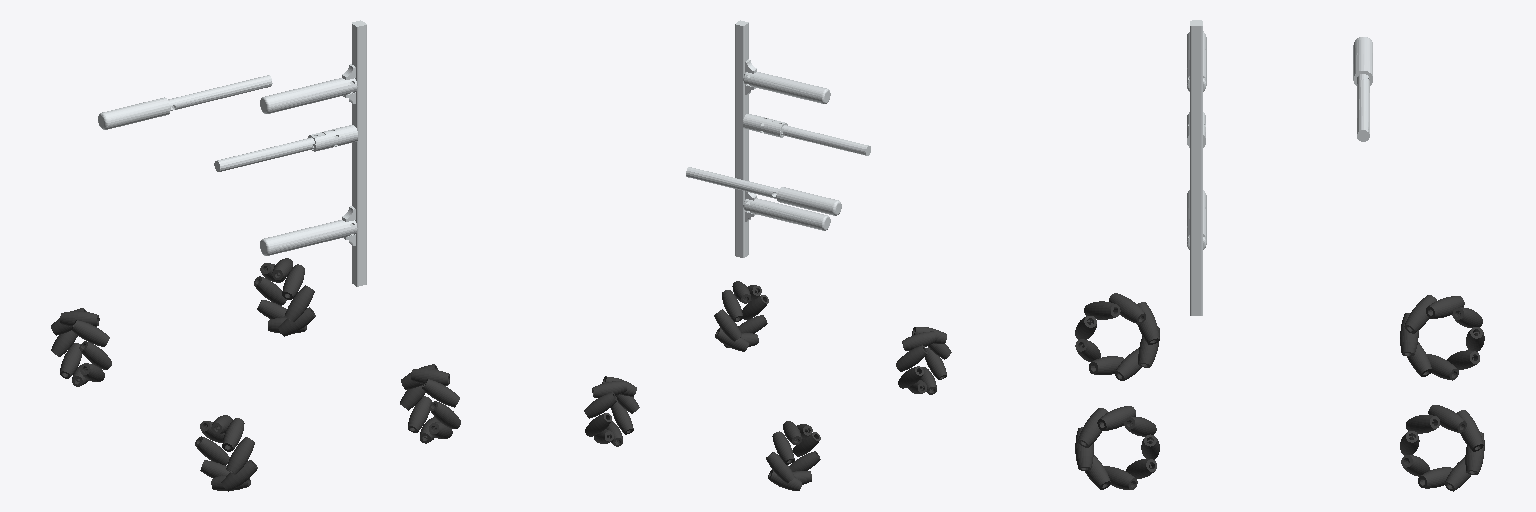
--- What the picture shows (computed from the rendered views, not written in the file) ---
Views: 3 orthographic renders of the robot side by side, from view 1: azimuth 30°, elevation 25°; view 2: azimuth 150°, elevation 25°; view 3: azimuth 270°, elevation 25°.
Model recon_bot_description with 41 links and 40 joints (36 continuous, 2 prismatic, 2 fixed), rooted at odom, posed all joints at 0.
Visible links, largest first — view 1: Pin_Head_R, Pin_Head_F, Roller_LR_4, Roller_LF_3, Roller_RR_8, Roller_RF_6, Roller_LR_8, Roller_RR_4; view 2: Pin_Head_R, Pin_Head_F; view 3: Pin_Head_R, Pin_Head_F, Roller_RF_4, Roller_LR_2, Roller_RR_7, Roller_LF_3, Roller_LF_2, Roller_RR_8, Roller_RF_3, Roller_LR_1, Roller_LR_3.
Link boxes in pixels (bbox=[...]): Pin_Head_R: bbox=[214, 20, 366, 286]; Pin_Head_F: bbox=[98, 75, 272, 129]; Roller_LR_4: bbox=[226, 437, 254, 474]; Roller_LF_3: bbox=[71, 320, 109, 346]; Roller_RR_8: bbox=[422, 379, 459, 407]; Roller_RF_6: bbox=[284, 285, 314, 322]; Roller_LR_8: bbox=[195, 436, 229, 465]; Roller_RR_4: bbox=[408, 396, 431, 432]; Pin_Head_R: bbox=[735, 20, 870, 257]; Pin_Head_F: bbox=[686, 167, 841, 215]; Pin_Head_R: bbox=[1187, 20, 1206, 315]; Pin_Head_F: bbox=[1353, 37, 1372, 141]; Roller_RF_4: bbox=[1428, 405, 1466, 432]; Roller_LR_2: bbox=[1109, 293, 1145, 324]; Roller_RR_7: bbox=[1097, 406, 1135, 430]; Roller_LF_3: bbox=[1404, 295, 1436, 333]; Roller_LF_2: bbox=[1426, 296, 1464, 318]; Roller_RR_8: bbox=[1078, 408, 1107, 447]; Roller_RF_3: bbox=[1457, 410, 1483, 451]; Roller_LR_1: bbox=[1137, 302, 1159, 344]; Roller_LR_3: bbox=[1084, 301, 1120, 319].
Bounding box of the posed robot: 0.4523 × 0.6138 × 0.734 m (x, y, z).
Meshes: 39 distinct files referenced, 34 mesh visuals loaded (34 binary STL); not drawn: 5 (reference not matched to a file when rendering).

The robot description file, URDF, robot "recon_bot_description":
<?xml version="1.0" encoding="utf-8"?>
<!-- This URDF was automatically created by SolidWorks to URDF Exporter! Originally created by Stephen Brawner ([email redacted]) 
     Commit Version: 1.6.0-4-g7f85cfe  Build Version: 1.6.7995.38578
     For more information, please see http://wiki.ros.org/sw_urdf_exporter -->
<robot
  name="recon_bot_description">

  <link name="odom">
    <origin xyz="0.0 0.0 0.0" rpy="0.0 0.0 3.14" />
  </link>

  <link name="base_footprint">
    <origin xyz="0.0 0.0 0.0" rpy="0.0 0.0 3.14" />
  </link>

  <joint name="odom_to_basefootprint" type="fixed">
    <parent link="odom"/>
    <child link="base_footprint"/>
    <origin rpy="0 0 0" xyz="0 0 0"/>
  </joint>

  <link
    name="Mobile_Base">
    <inertial>
      <origin
        xyz="-0.000901764538349642 0.00289486712536702 -0.140394651236372"
        rpy="0 0 0" />
      <mass
        value="12.2070426110808" />
      <inertia
        ixx="0.100263210317857"
        ixy="0.000416138117875011"
        ixz="1.90955749720013E-07"
        iyy="0.0777870248737817"
        iyz="-4.99662188803516E-08"
        izz="0.15510236958373" />
    </inertial>
    <visual>
      <origin
        xyz="0 0 0"
        rpy="0 0 0" />
      <geometry>
        <mesh
          filename="package://recon_bot_description/meshes/Mobile_Base.STL" />
      </geometry>
      <material
        name="">
        <color
          rgba="0.792156862745098 0.819607843137255 0.933333333333333 1" />
      </material>
    </visual>
    <collision>
      <origin
        xyz="0 0 0"
        rpy="0 0 0" />
      <geometry>
        
      </geometry>
    </collision>
  </link>

  <joint name="basefootprint_to_base" type="fixed">
    <parent link="base_footprint"/>
    <child link="Mobile_Base"/>
    <origin rpy="0 0 0" xyz="0 0 0.5"/>
  </joint>

  <link
    name="Wheel_LF">
    <inertial>
      <origin
        xyz="-3.68604325448052E-05 8.74696815861276E-06 -0.000155511793327179"
        rpy="0 0 0" />
      <mass
        value="0.774041102749819" />
      <inertia
        ixx="0.000555068815324583"
        ixy="2.15732280355057E-07"
        ixz="-1.85654347062673E-10"
        iyy="0.000555930826369468"
        iyz="2.27283260482476E-10"
        izz="0.000988906210850007" />
    </inertial>
    <visual>
      <origin
        xyz="0 0 0"
        rpy="0 0 0" />
      <geometry>
        <mesh
          filename="package://recon_bot_description/meshes/Wheel_LF.STL" />
      </geometry>
      <material
        name="">
        <color
          rgba="0.898039215686275 0.917647058823529 0.929411764705882 1" />
      </material>
    </visual>
    <collision>
      <origin
        xyz="0 0 0"
        rpy="0 0 0" />
      <geometry>
        
      </geometry>
    </collision>
  </link>
  <joint
    name="J_Wheel_LF"
    type="continuous">
    <origin
      xyz="-0.196999999999994 0.243373703143014 -0.410500520826094"
      rpy="1.5707963267949 -0.698892577239709 1.57079632679526" />
    <parent
      link="Mobile_Base" />
    <child
      link="Wheel_LF" />
    <axis
      xyz="0 0 1" />
  </joint>
  <link
    name="Roller_LF_1">
    <inertial>
      <origin
        xyz="-3.83185982943957E-10 -5.66471758389753E-10 -6.83960459935129E-08"
        rpy="0 0 0" />
      <mass
        value="0.0352584429300109" />
      <inertia
        ixx="1.04260747160857E-05"
        ixy="-3.74985932672452E-16"
        ixz="3.16159847322509E-11"
        iyy="1.04260747162552E-05"
        iyz="-7.59166287983956E-12"
        izz="3.24617145964053E-06" />
    </inertial>
    <visual>
      <origin
        xyz="0 0 0"
        rpy="0 0 0" />
      <geometry>
        <mesh
          filename="package://recon_bot_description/meshes/Roller_LF_1.STL" />
      </geometry>
      <material
        name="">
        <color
          rgba="0.298039215686275 0.298039215686275 0.298039215686275 1" />
      </material>
    </visual>
    <collision>
      <origin
        xyz="0 0 0"
        rpy="0 0 0" />
      <geometry>
        
      </geometry>
    </collision>
  </link>
  <joint
    name="J_Roller_LF_1"
    type="continuous">
    <origin
      xyz="0.0495000000000021 0 0"
      rpy="0 0.785398163397682 1.57079632679483" />
    <parent
      link="Wheel_LF" />
    <child
      link="Roller_LF_1" />
    <axis
      xyz="0 0 -1" />
  </joint>
  <link
    name="Roller_LF_2">
    <inertial>
      <origin
        xyz="-3.09857084435095E-10 1.10555134491541E-09 -4.17113807937852E-08"
        rpy="0 0 0" />
      <mass
        value="0.0352584429300112" />
      <inertia
        ixx="1.04260761905347E-05"
        ixy="2.10247077096114E-16"
        ixz="-2.4788845562525E-11"
        iyy="1.04260761890094E-05"
        iyz="-2.10620761179513E-11"
        izz="3.24617146052916E-06" />
    </inertial>
    <visual>
      <origin
        xyz="0 0 0"
        rpy="0 0 0" />
      <geometry>
        <mesh
          filename="package://recon_bot_description/meshes/Roller_LF_2.STL" />
      </geometry>
      <material
        name="">
        <color
          rgba="0.298039215686275 0.298039215686275 0.298039215686275 1" />
      </material>
    </visual>
    <collision>
      <origin
        xyz="0 0 0"
        rpy="0 0 0" />
      <geometry>
        
      </geometry>
    </collision>
  </link>
  <joint
    name="J_Roller_LF_2"
    type="continuous">
    <origin
      xyz="0.0350017856687387 0.0350017856687551 0"
      rpy="0 0.785398163397817 2.35619449019253" />
    <parent
      link="Wheel_LF" />
    <child
      link="Roller_LF_2" />
    <axis
      xyz="0 0 -1" />
  </joint>
  <link
    name="Roller_LF_3">
    <inertial>
      <origin
        xyz="7.28457724696874E-09 2.76751455086099E-09 2.27604661784397E-08"
        rpy="0 0 0" />
      <mass
        value="0.0352584429300111" />
      <inertia
        ixx="1.04260768064924E-05"
        ixy="-1.98661171978739E-14"
        ixz="-3.25498755598683E-11"
        iyy="1.04260768503918E-05"
        iyz="-1.43134028288981E-12"
        izz="3.2461715182147E-06" />
    </inertial>
    <visual>
      <origin
        xyz="0 0 0"
        rpy="0 0 0" />
      <geometry>
        <mesh
          filename="package://recon_bot_description/meshes/Roller_LF_3.STL" />
      </geometry>
      <material
        name="">
        <color
          rgba="0.298039215686275 0.298039215686275 0.298039215686275 1" />
      </material>
    </visual>
    
  </link>
  <joint
    name="J_Roller_LF_3"
    type="continuous">
    <origin
      xyz="0 0.0494999999999665 0"
      rpy="0 0.785398163397733 -3.14159265358936" />
    <parent
      link="Wheel_LF" />
    <child
      link="Roller_LF_3" />
    <axis
      xyz="0 0 -1" />
  </joint>
  <link
    name="Roller_LF_4">
    <inertial>
      <origin
        xyz="-8.85009204809606E-10 8.87345419364749E-10 -1.82681258453776E-08"
        rpy="0 0 0" />
      <mass
        value="0.035258442930011" />
      <inertia
        ixx="1.04260768940346E-05"
        ixy="6.843225238284E-16"
        ixz="-1.09712169237017E-11"
        iyy="1.04260768941284E-05"
        iyz="3.06406603017413E-11"
        izz="3.24617146037589E-06" />
    </inertial>
    <visual>
      <origin
        xyz="0 0 0"
        rpy="0 0 0" />
      <geometry>
        <mesh
          filename="package://recon_bot_description/meshes/Roller_LF_4.STL" />
      </geometry>
      <material
        name="">
        <color
          rgba="0.298039215686275 0.298039215686275 0.298039215686275 1" />
      </material>
    </visual>
    
  </link>
  <joint
    name="J_Roller_LF_4"
    type="continuous">
    <origin
      xyz="-0.0350017856687272 0.0350017856687195 0"
      rpy="0 0.785398163397478 -2.35619449019179" />
    <parent
      link="Wheel_LF" />
    <child
      link="Roller_LF_4" />
    <axis
      xyz="0 0 -1" />
  </joint>
  <link
    name="Roller_LF_5">
    <inertial>
      <origin
        xyz="1.60439110885591E-08 5.69080083057116E-09 1.2380305391968E-07"
        rpy="0 0 0" />
      <mass
        value="0.035258442930011" />
      <inertia
        ixx="1.04260694141622E-05"
        ixy="-9.94372503073185E-14"
        ixz="-1.26413841544385E-11"
        iyy="1.04260696259208E-05"
        iyz="2.99325036340899E-11"
        izz="3.24617174875245E-06" />
    </inertial>
    <visual>
      <origin
        xyz="0 0 0"
        rpy="0 0 0" />
      <geometry>
        <mesh
          filename="package://recon_bot_description/meshes/Roller_LF_5.STL" />
      </geometry>
      <material
        name="">
        <color
          rgba="0.298039215686275 0.298039215686275 0.298039215686275 1" />
      </material>
    </visual>
    
  </link>
  <joint
    name="J_Roller_LF_5"
    type="continuous">
    <origin
      xyz="-0.0495000000000251 0 0"
      rpy="0 0.785398163397209 -1.57079632679442" />
    <parent
      link="Wheel_LF" />
    <child
      link="Roller_LF_5" />
    <axis
      xyz="0 0 -1" />
  </joint>
  <link
    name="Roller_LF_6">
    <inertial>
      <origin
        xyz="-3.825635364052E-10 -1.68518193843781E-09 4.39527294560094E-08"
        rpy="0 0 0" />
      <mass
        value="0.0352584429300111" />
      <inertia
        ixx="1.04260760941714E-05"
        ixy="-2.85658102752809E-16"
        ixz="2.80429237954922E-11"
        iyy="1.04260760917002E-05"
        iyz="1.65168143921329E-11"
        izz="3.24617146148317E-06" />
    </inertial>
    <visual>
      <origin
        xyz="0 0 0"
        rpy="0 0 0" />
      <geometry>
        <mesh
          filename="package://recon_bot_description/meshes/Roller_LF_6.STL" />
      </geometry>
      <material
        name="">
        <color
          rgba="0.298039215686275 0.298039215686275 0.298039215686275 1" />
      </material>
    </visual>
    
  </link>
  <joint
    name="J_Roller_LF_6"
    type="continuous">
    <origin
      xyz="-0.0350017856687449 -0.0350017856687672 0"
      rpy="0 0.785398163397077 -0.785398163397211" />
    <parent
      link="Wheel_LF" />
    <child
      link="Roller_LF_6" />
    <axis
      xyz="0 0 -1" />
  </joint>
  <link
    name="Roller_LF_7">
    <inertial>
      <origin
        xyz="4.28941293595386E-09 8.82995787598873E-10 -1.01682179981522E-07"
        rpy="0 0 0" />
      <mass
        value="0.0352584429300109" />
      <inertia
        ixx="1.04260718732603E-05"
        ixy="-4.33398087044761E-15"
        ixz="2.94154428727412E-11"
        iyy="1.04260718866193E-05"
        iyz="-1.4005428896808E-11"
        izz="3.2461714747039E-06" />
    </inertial>
    <visual>
      <origin
        xyz="0 0 0"
        rpy="0 0 0" />
      <geometry>
        <mesh
          filename="package://recon_bot_description/meshes/Roller_LF_7.STL" />
      </geometry>
      <material
        name="">
        <color
          rgba="0.298039215686275 0.298039215686275 0.298039215686275 1" />
      </material>
    </visual>
    
  </link>
  <joint
    name="J_Roller_LF_7"
    type="continuous">
    <origin
      xyz="0 -0.0494999999999995 0"
      rpy="0 0.785398163397161 0" />
    <parent
      link="Wheel_LF" />
    <child
      link="Roller_LF_7" />
    <axis
      xyz="0 0 -1" />
  </joint>
  <link
    name="Roller_LF_8">
    <inertial>
      <origin
        xyz="-4.45606107568608E-10 -1.68479385997955E-09 4.58650017132189E-08"
        rpy="0 0 0" />
      <mass
        value="0.0352584429300115" />
      <inertia
        ixx="1.04260760091362E-05"
        ixy="-3.83896454579771E-16"
        ixz="3.22721314246384E-11"
        iyy="1.04260760061884E-05"
        iyz="-4.12147536543168E-12"
        izz="3.24617146194952E-06" />
    </inertial>
    <visual>
      <origin
        xyz="0 0 0"
        rpy="0 0 0" />
      <geometry>
        <mesh
          filename="package://recon_bot_description/meshes/Roller_LF_8.STL" />
      </geometry>
      <material
        name="">
        <color
          rgba="0.298039215686275 0.298039215686275 0.298039215686275 1" />
      </material>
    </visual>
    
  </link>
  <joint
    name="J_Roller_LF_8"
    type="continuous">
    <origin
      xyz="0.0350017856687419 -0.0350017856687232 0"
      rpy="0 0.785398163397412 0.785398163397306" />
    <parent
      link="Wheel_LF" />
    <child
      link="Roller_LF_8" />
    <axis
      xyz="0 0 -1" />
  </joint>
  <link
    name="Wheel_LR">
    <inertial>
      <origin
        xyz="2.28750886412388E-05 4.38499760812283E-05 -0.000160556590807603"
        rpy="0 0 0" />
      <mass
        value="0.286935584537691" />
      <inertia
        ixx="0.000205567523367468"
        ixy="4.86825936022437E-10"
        ixz="5.22777710432475E-10"
        iyy="0.000205922237695722"
        iyz="8.40224944645304E-11"
        izz="0.000366267561115225" />
    </inertial>
    <visual>
      <origin
        xyz="0 0 0"
        rpy="0 0 0" />
      <geometry>
        <mesh
          filename="package://recon_bot_description/meshes/Wheel_LR.STL" />
      </geometry>
      <material
        name="">
        <color
          rgba="0.792156862745098 0.819607843137255 0.933333333333333 1" />
      </material>
    </visual>
    <collision>
      <origin
        xyz="0 0 0"
        rpy="0 0 0" />
      <geometry>
        <mesh
          filename="package://recon_bot_description/meshes/Wheel_LR.STL" />
      </geometry>
    </collision>
  </link>
  <joint
    name="J_Wheel_LR"
    type="continuous">
    <origin
      xyz="-0.197 -0.243373703143012 -0.410500520826101"
      rpy="1.5707963267949 -0.479686767241463 1.57079632679489" />
    <parent
      link="Mobile_Base" />
    <child
      link="Wheel_LR" />
    <axis
      xyz="0 0 1" />
  </joint>
  <link
    name="Roller_LR_1">
    <inertial>
      <origin
        xyz="1.67015073992971E-08 1.25504300840795E-08 1.06866803406547E-07"
        rpy="0 0 0" />
      <mass
        value="0.0352584429300112" />
      <inertia
        ixx="1.04260715177521E-05"
        ixy="-2.16967544708089E-13"
        ixz="-9.22230104291594E-12"
        iyy="1.04260716218938E-05"
        iyz="3.09410049840542E-11"
        izz="3.24617190478417E-06" />
    </inertial>
    <visual>
      <origin
        xyz="0 0 0"
        rpy="0 0 0" />
      <geometry>
        <mesh
          filename="package://recon_bot_description/meshes/Roller_LR_1.STL" />
      </geometry>
      <material
        name="">
        <color
          rgba="0.298039215686275 0.298039215686275 0.298039215686275 1" />
      </material>
    </visual>
    
  </link>
  <joint
    name="J_Roller_LR_1"
    type="continuous">
    <origin
      xyz="0.0494999999999991 0 0"
      rpy="0 0.785398163397451 -1.57079632679496" />
    <parent
      link="Wheel_LR" />
    <child
      link="Roller_LR_1" />
    <axis
      xyz="0 0 -1" />
  </joint>
  <link
    name="Roller_LR_2">
    <inertial>
      <origin
        xyz="7.42938899289669E-09 -8.73704070203374E-09 8.61521962658429E-08"
        rpy="0 0 0" />
      <mass
        value="0.0352584429300108" />
      <inertia
        ixx="1.04260734013828E-05"
        ixy="6.31409768982622E-14"
        ixz="9.33284556977417E-12"
        iyy="1.04260733892382E-05"
        iyz="3.12763115710681E-11"
        izz="3.2461715855996E-06" />
    </inertial>
    <visual>
      <origin
        xyz="0 0 0"
        rpy="0 0 0" />
      <geometry>
        <mesh
          filename="package://recon_bot_description/meshes/Roller_LR_2.STL" />
      </geometry>
      <material
        name="">
        <color
          rgba="0.298039215686275 0.298039215686275 0.298039215686275 1" />
      </material>
    </visual>
    
  </link>
  <joint
    name="J_Roller_LR_2"
    type="continuous">
    <origin
      xyz="0.0350017856687349 0.0350017856687338 0"
      rpy="0 0.785398163397457 -0.785398163397507" />
    <parent
      link="Wheel_LR" />
    <child
      link="Roller_LR_2" />
    <axis
      xyz="0 0 -1" />
  </joint>
  <link
    name="Roller_LR_3">
    <inertial>
      <origin
        xyz="-2.48421372361918E-09 -3.8649139000313E-08 3.87014362224214E-09"
        rpy="0 0 0" />
      <mass
        value="0.0352584429300109" />
      <inertia
        ixx="1.02720896688601E-05"
        ixy="5.25739053234605E-07"
        ixz="8.97501577058071E-07"
        iyy="8.63112731680581E-06"
        iyz="-3.06419984523447E-06"
        izz="5.19511092199813E-06" />
    </inertial>
    <visual>
      <origin
        xyz="0 0 0"
        rpy="0 0 0" />
      <geometry>
        <mesh
          filename="package://recon_bot_description/meshes/Roller_LR_3.STL" />
      </geometry>
      <material
        name="">
        <color
          rgba="0.298039215686275 0.298039215686275 0.298039215686275 1" />
      </material>
    </visual>
    
  </link>
  <joint
    name="J_Roller_LR_3"
    type="continuous">
    <origin
      xyz="0 0.0494999999999999 0"
      rpy="0 0.785398163397457 -0.785398163397507" />
    <parent
      link="Wheel_LR" />
    <child
      link="Roller_LR_3" />
    <axis
      xyz="0.146446609406722 -0.499999999999993 -0.853553390593279" />
  </joint>
  <link
    name="Roller_LR_4">
    <inertial>
      <origin
        xyz="7.63942531456507E-09 -1.99390438604397E-08 1.1846500916346E-07"
        rpy="0 0 0" />
      <mass
        value="0.0352584429300108" />
      <inertia
        ixx="1.0426070450002E-05"
        ixy="1.65232144271412E-13"
        ixz="3.13331495062905E-11"
        iyy="1.04260701130261E-05"
        iyz="-7.04608640492049E-12"
        izz="3.24617193052735E-06" />
    </inertial>
    <visual>
      <origin
        xyz="0 0 0"
        rpy="0 0 0" />
      <geometry>
        <mesh
          filename="package://recon_bot_description/meshes/Roller_LR_4.STL" />
      </geometry>
      <material
        name="">
        <color
          rgba="0.298039215686275 0.298039215686275 0.298039215686275 1" />
      </material>
    </visual>
    
  </link>
  <joint
    name="J_Roller_LR_4"
    type="continuous">
    <origin
      xyz="-0.0350017856687312 0.035001785668738 0"
      rpy="0 0.78539816339745 0.785398163397392" />
    <parent
      link="Wheel_LR" />
    <child
      link="Roller_LR_4" />
    <axis
      xyz="0 0 -1" />
  </joint>
  <link
    name="Roller_LR_5">
    <inertial>
      <origin
        xyz="-1.13800639467421E-08 -2.23572448332376E-08 -1.39705523066747E-07"
        rpy="0 0 0" />
      <mass
        value="0.035258442930011" />
      <inertia
        ixx="1.04260677298263E-05"
        ixy="-2.58295319819987E-13"
        ixz="1.92470991858287E-11"
        iyy="1.0426067392854E-05"
        iyz="-2.66026490431678E-11"
        izz="3.24617207497984E-06" />
    </inertial>
    <visual>
      <origin
        xyz="0 0 0"
        rpy="0 0 0" />
      <geometry>
        <mesh
          filename="package://recon_bot_description/meshes/Roller_LR_5.STL" />
      </geometry>
      <material
        name="">
        <color
          rgba="0.298039215686275 0.298039215686275 0.298039215686275 1" />
      </material>
    </visual>
    
  </link>
  <joint
    name="J_Roller_LR_5"
    type="continuous">
    <origin
      xyz="-0.0494999999999998 0 0"
      rpy="0 0.785398163397442 1.57079632679484" />
    <parent
      link="Wheel_LR" />
    <child
      link="Roller_LR_5" />
    <axis
      xyz="0 0 -1" />
  </joint>
  <link
    name="Roller_LR_6">
    <inertial>
      <origin
        xyz="2.33893460155343E-10 1.54178639300007E-09 -2.60845123278841E-08"
        rpy="0 0 0" />
      <mass
        value="0.035258442930011" />
      <inertia
        ixx="1.04260767232418E-05"
        ixy="-3.71422041546879E-16"
        ixz="3.32532285718695E-12"
        iyy="1.04260767205083E-05"
        iyz="-3.23584129250263E-11"
        izz="3.24617146183828E-06" />
    </inertial>
    <visual>
      <origin
        xyz="0 0 0"
        rpy="0 0 0" />
      <geometry>
        <mesh
          filename="package://recon_bot_description/meshes/Roller_LR_6.STL" />
      </geometry>
      <material
        name="">
        <color
          rgba="0.298039215686275 0.298039215686275 0.298039215686275 1" />
      </material>
    </visual>
    
  </link>
  <joint
    name="J_Roller_LR_6"
    type="continuous">
    <origin
      xyz="-0.0350017856687373 -0.035001785668729 0"
      rpy="0 0.785398163397437 2.35619449019228" />
    <parent
      link="Wheel_LR" />
    <child
      link="Roller_LR_6" />
    <axis
      xyz="0 0 -1" />
  </joint>
  <link
    name="Roller_LR_7">
    <inertial>
      <origin
        xyz="1.99958341828843E-08 1.8472178411888E-08 -5.58086615809472E-09"
        rpy="0 0 0" />
      <mass
        value="0.0352584429300108" />
      <inertia
        ixx="1.04260773904698E-05"
        ixy="-3.71094202950359E-13"
        ixz="-2.21142032202126E-11"
        iyy="1.04260774492563E-05"
        iyz="-2.38143341729084E-11"
        izz="3.24617220352037E-06" />
    </inertial>
    <visual>
      <origin
        xyz="0 0 0"
        rpy="0 0 0" />
      <geometry>
        <mesh
          filename="package://recon_bot_description/meshes/Roller_LR_7.STL" />
      </geometry>
      <material
        name="">
        <color
          rgba="0.298039215686275 0.298039215686275 0.298039215686275 1" />
      </material>
    </visual>
    
  </link>
  <joint
    name="J_Roller_LR_7"
    type="continuous">
    <origin
      xyz="0 -0.0494999999999981 0"
      rpy="0 0.785398163397437 3.14159265358973" />
    <parent
      link="Wheel_LR" />
    <child
      link="Roller_LR_7" />
    <axis
      xyz="0 0 -1" />
  </joint>
  <link
    name="Roller_LR_8">
    <inertial>
      <origin
        xyz="-4.27786778223194E-10 1.50381363750451E-08 -1.39886802030809E-07"
        rpy="0 0 0" />
      <mass
        value="0.0352584429300108" />
      <inertia
        ixx="1.04260675049186E-05"
        ixy="-2.07385810388201E-15"
        ixz="-2.69590085768581E-11"
        iyy="1.04260672661416E-05"
        iyz="-1.75459807670728E-11"
        izz="3.24617169716258E-06" />
    </inertial>
    <visual>
      <origin
        xyz="0 0 0"
        rpy="0 0 0" />
      <geometry>
        <mesh
          filename="package://recon_bot_description/meshes/Roller_LR_8.STL" />
      </geometry>
      <material
        name="">
        <color
          rgba="0.298039215686275 0.298039215686275 0.298039215686275 1" />
      </material>
    </visual>
    
  </link>
  <joint
    name="J_Roller_LR_8"
    type="continuous">
    <origin
      xyz="0.0350017856687324 -0.035001785668733 0"
      rpy="0 0.785398163397443 -2.35619449019241" />
    <parent
      link="Wheel_LR" />
    <child
      link="Roller_LR_8" />
    <axis
      xyz="0 0 -1" />
  </joint>
  <link
    name="Wheel_RF">
    <inertial>
      <origin
        xyz="2.28374030626366E-05 4.3913212168234E-05 -0.000160482316143525"
        rpy="0 0 0" />
      <mass
        value="0.286934748749192" />
      <inertia
        ixx="0.00020556617413596"
        ixy="1.10285044985226E-14"
        ixz="5.73034041739302E-10"
        iyy="0.000205921402223248"
        iyz="1.10288594143402E-14"
        izz="0.000366265336032199" />
    </inertial>
    <visual>
      <origin
        xyz="0 0 0"
        rpy="0 0 0" />
      <geometry>
        <mesh
          filename="package://recon_bot_description/meshes/Wheel_RF.STL" />
      </geometry>
      <material
        name="">
        <color
          rgba="0.792156862745098 0.819607843137255 0.933333333333333 1" />
      </material>
    </visual>
    <collision>
      <origin
        xyz="0 0 0"
        rpy="0 0 0" />
      <geometry>
        <mesh
          filename="package://recon_bot_description/meshes/Wheel_RF.STL" />
      </geometry>
    </collision>
  </link>
  <joint
    name="J_Wheel_RF"
    type="continuous">
    <origin
      xyz="0.197 0.243373703143008 -0.410500520826103"
      rpy="-1.57079632679488 0.943014448657122 1.57079632679492" />
    <parent
      link="Mobile_Base" />
    <child
      link="Wheel_RF" />
    <axis
      xyz="0 0 1" />
  </joint>
  <link
    name="Roller_RF_1">
    <inertial>
      <origin
        xyz="-2.28876292918123E-08 1.67575591736302E-08 -3.70525532478183E-08"
        rpy="0 0 0" />
      <mass
        value="0.0352584429300108" />
      <inertia
        ixx="1.04260766356289E-05"
        ixy="3.79660531325495E-13"
        ixz="-2.75547408292055E-11"
        iyy="1.04260768755305E-05"
        iyz="1.77785602475058E-11"
        izz="3.24617225532452E-06" />
    </inertial>
    <visual>
      <origin
        xyz="0 0 0"
        rpy="0 0 0" />
      <geometry>
        <mesh
          filename="package://recon_bot_description/meshes/Roller_RF_1.STL" />
      </geometry>
      <material
        name="">
        <color
          rgba="0.298039215686275 0.298039215686275 0.298039215686275 1" />
      </material>
    </visual>
    
  </link>
  <joint
    name="J_Roller_RF_1"
    type="continuous">
    <origin
      xyz="0.0494999999999999 0 0"
      rpy="0 -0.785398163397448 1.57079632679489" />
    <parent
      link="Wheel_RF" />
    <child
      link="Roller_RF_1" />
    <axis
      xyz="0 0 -1" />
  </joint>
  <link
    name="Roller_RF_2">
    <inertial>
      <origin
        xyz="-7.58374141263118E-10 -2.51046117227816E-09 5.45374427840528E-08"
        rpy="0 0 0" />
      <mass
        value="0.0352584429300108" />
      <inertia
        ixx="1.04260755789725E-05"
        ixy="-1.83702642128029E-15"
        ixz="1.25338284150256E-11"
        iyy="1.04260755718119E-05"
        iyz="-2.9985430552703E-11"
        izz="3.24617146700459E-06" />
    </inertial>
    <visual>
      <origin
        xyz="0 0 0"
        rpy="0 0 0" />
      <geometry>
        <mesh
          filename="package://recon_bot_description/meshes/Roller_RF_2.STL" />
      </geometry>
      <material
        name="">
        <color
          rgba="0.298039215686275 0.298039215686275 0.298039215686275 1" />
      </material>
    </visual>
    
  </link>
  <joint
    name="J_Roller_RF_2"
    type="continuous">
    <origin
      xyz="0.0350017856687338 -0.0350017856687341 0"
      rpy="0 -0.785398163397438 0.785398163397447" />
    <parent
      link="Wheel_RF" />
    <child
      link="Roller_RF_2" />
    <axis
      xyz="0 0 -1" />
  </joint>
  <link
    name="Roller_RF_3">
    <inertial>
      <origin
        xyz="1.62190583186117E-08 -2.63133487221623E-09 1.51501947903698E-07"
        rpy="0 0 0" />
      <mass
        value="0.0352584429300107" />
      <inertia
        ixx="1.04260655466723E-05"
        ixy="3.0405123897277E-14"
        ixz="-4.03828219583914E-12"
        iyy="1.04260658049207E-05"
        iyz="3.23463899735662E-11"
        izz="3.24617172323519E-06" />
    </inertial>
    <visual>
      <origin
        xyz="0 0 0"
        rpy="0 0 0" />
      <geometry>
        <mesh
          filename="package://recon_bot_description/meshes/Roller_RF_3.STL" />
      </geometry>
      <material
        name="">
        <color
          rgba="0.298039215686275 0.298039215686275 0.298039215686275 1" />
      </material>
    </visual>
    
  </link>
  <joint
    name="J_Roller_RF_3"
    type="continuous">
    <origin
      xyz="0 -0.0495 0"
      rpy="-0.609288783050202 0.53106684913527 2.19857820493268" />
    <parent
      link="Wheel_RF" />
    <child
      link="Roller_RF_3" />
    <axis
      xyz="0 0 -1" />
  </joint>
  <link
    name="Roller_RF_4">
    <inertial>
      <origin
        xyz="-1.10020631494123E-09 -2.32654606691085E-09 5.17692528845259E-08"
        rpy="0 0 0" />
      <mass
        value="0.0352584429300106" />
      <inertia
        ixx="1.04260757252243E-05"
        ixy="-2.62052734468842E-15"
        ixz="1.15087387759186E-11"
        iyy="1.04260757196874E-05"
        iyz="-3.03999851193014E-11"
        izz="3.2461714665715E-06" />
    </inertial>
    <visual>
      <origin
        xyz="0 0 0"
        rpy="0 0 0" />
      <geometry>
        <mesh
          filename="package://recon_bot_description/meshes/Roller_RF_4.STL" />
      </geometry>
      <material
        name="">
        <color
          rgba="0.298039215686275 0.298039215686275 0.298039215686275 1" />
      </material>
    </visual>
    
  </link>
  <joint
    name="J_Roller_RF_4"
    type="continuous">
    <origin
      xyz="-0.0350017856687344 -0.0350017856687337 0"
      rpy="0 -0.785398163397439 -0.785398163397433" />
    <parent
      link="Wheel_RF" />
    <child
      link="Roller_RF_4" />
    <axis
      xyz="0 0 -1" />
  </joint>
  <link
    name="Roller_RF_5">
    <inertial>
      <origin
        xyz="2.43778411346263E-08 -1.78419561625009E-08 5.60706398533561E-08"
        rpy="0 0 0" />
      <mass
        value="0.0352584429300109" />
      <inertia
        ixx="1.04260758348702E-05"
        ixy="4.44263469303027E-13"
        ixz="2.48069949750729E-11"
        iyy="1.04260761157679E-05"
        iyz="-2.0365696684887E-11"
        izz="3.24617239087806E-06" />
    </inertial>
    <visual>
      <origin
        xyz="0 0 0"
        rpy="0 0 0" />
      <geometry>
        <mesh
          filename="package://recon_bot_description/meshes/Roller_RF_5.STL" />
      </geometry>
      <material
        name="">
        <color
          rgba="0.298039215686275 0.298039215686275 0.298039215686275 1" />
      </material>
    </visual>
    
  </link>
  <joint
    name="J_Roller_RF_5"
    type="continuous">
    <origin
      xyz="-0.0495 0 0"
      rpy="0 -0.785398163397448 -1.57079632679488" />
    <parent
      link="Wheel_RF" />
    <child
      link="Roller_RF_5" />
    <axis
      xyz="0 0 -1" />
  </joint>
  <link
    name="Roller_RF_6">
    <inertial>
      <origin
        xyz="-6.38928882024103E-10 -4.33517610698431E-09 7.96774445033233E-08"
        rpy="0 0 0" />
      <mass
        value="0.035258442930011" />
      <inertia
        ixx="1.0426073900259E-05"
        ixy="-1.37727112531252E-15"
        ixz="2.87273301374692E-11"
        iyy="1.04260738797584E-05"
        iyz="-1.51581958389486E-11"
        izz="3.24617147943109E-06" />
    </inertial>
    <visual>
      <origin
        xyz="0 0 0"
        rpy="0 0 0" />
      <geometry>
        <mesh
          filename="package://recon_bot_description/meshes/Roller_RF_6.STL" />
      </geometry>
      <material
        name="">
        <color
          rgba="0.298039215686275 0.298039215686275 0.298039215686275 1" />
      </material>
    </visual>
    
  </link>
  <joint
    name="J_Roller_RF_6"
    type="continuous">
    <origin
      xyz="-0.0350017856687347 0.035001785668734 0"
      rpy="0 -0.785398163397459 -2.35619449019234" />
    <parent
      link="Wheel_RF" />
    <child
      link="Roller_RF_6" />
    <axis
      xyz="0 0 -1" />
  </joint>
  <link
    name="Roller_RF_7">
    <inertial>
      <origin
        xyz="2.03665445341894E-08 -7.13063064150532E-09 -8.72457231460011E-08"
        rpy="0 0 0" />
      <mass
        value="0.035258442930011" />
      <inertia
        ixx="1.04260733096708E-05"
        ixy="1.54326280402773E-13"
        ixz="2.0254296471793E-12"
        iyy="1.04260736676434E-05"
        iyz="3.23095488290615E-11"
        izz="3.24617193132991E-06" />
    </inertial>
    <visual>
      <origin
        xyz="0 0 0"
        rpy="0 0 0" />
      <geometry>
        <mesh
          filename="package://recon_bot_description/meshes/Roller_RF_7.STL" />
      </geometry>
      <material
        name="">
        <color
          rgba="0.298039215686275 0.298039215686275 0.298039215686275 1" />
      </material>
    </visual>
    
  </link>
  <joint
    name="J_Roller_RF_7"
    type="continuous">
    <origin
      xyz="0 0.0495 0"
      rpy="0 -0.785398163397463 3.14159265358979" />
    <parent
      link="Wheel_RF" />
    <child
      link="Roller_RF_7" />
    <axis
      xyz="0 0 -1" />
  </joint>
  <link
    name="Roller_RF_8">
    <inertial>
      <origin
        xyz="2.86524748371875E-10 3.53920168172372E-09 -5.47491038616066E-08"
        rpy="0 0 0" />
      <mass
        value="0.0352584429300109" />
      <inertia
        ixx="1.04260755664592E-05"
        ixy="-1.32125493068646E-15"
        ixz="-1.2652516240161E-11"
        iyy="1.04260755558221E-05"
        iyz="3.00123139469367E-11"
        izz="3.24617146993115E-06" />
    </inertial>
    <visual>
      <origin
        xyz="0 0 0"
        rpy="0 0 0" />
      <geometry>
        <mesh
          filename="package://recon_bot_description/meshes/Roller_RF_8.STL" />
      </geometry>
      <material
        name="">
        <color
          rgba="0.298039215686275 0.298039215686275 0.298039215686275 1" />
      </material>
    </visual>
    
  </link>
  <joint
    name="J_Roller_RF_8"
    type="continuous">
    <origin
      xyz="0.0350017856687329 0.0350017856687334 0"
      rpy="0 -0.785398163397459 2.35619449019235" />
    <parent
      link="Wheel_RF" />
    <child
      link="Roller_RF_8" />
    <axis
      xyz="0 0 -1" />
  </joint>
  <link
    name="Wheel_RR">
    <inertial>
      <origin
        xyz="-3.68971720447753E-05 8.73176160257061E-06 -0.000155533212772396"
        rpy="0 0 0" />
      <mass
        value="0.774041107399352" />
      <inertia
        ixx="0.000555071231306981"
        ixy="2.13316469015245E-07"
        ixz="2.7956366730985E-11"
        iyy="0.000555928410599816"
        iyz="-2.88355488444608E-10"
        izz="0.000988906210952547" />
    </inertial>
    <visual>
      <origin
        xyz="0 0 0"
        rpy="0 0 0" />
      <geometry>
        <mesh
          filename="package://recon_bot_description/meshes/Wheel_RR.STL" />
      </geometry>
      <material
        name="">
        <color
          rgba="0.898039215686275 0.917647058823529 0.929411764705882 1" />
      </material>
    </visual>
    <collision>
      <origin
        xyz="0 0 0"
        rpy="0 0 0" />
      <geometry>
        <mesh
          filename="package://recon_bot_description/meshes/Wheel_RR.STL" />
      </geometry>
    </collision>
  </link>
  <joint
    name="J_Wheel_RR"
    type="continuous">
    <origin
      xyz="0.197 -0.243373703143013 -0.410500520826098"
      rpy="1.5707963267949 0.0225283753887193 -1.57079632679472" />
    <parent
      link="Mobile_Base" />
    <child
      link="Wheel_RR" />
    <axis
      xyz="0 0 1" />
  </joint>
  <link
    name="Roller_RR_1">
    <inertial>
      <origin
        xyz="1.12114789674322E-10 -6.97872593047322E-11 -1.19170277257385E-08"
        rpy="0 0 0" />
      <mass
        value="0.035258442930011" />
      <inertia
        ixx="1.04260769898083E-05"
        ixy="6.06656908224351E-18"
        ixz="3.08085320277639E-11"
        iyy="1.04260769898007E-05"
        iyz="1.0478225912599E-11"
        izz="3.24617145901505E-06" />
    </inertial>
    <visual>
      <origin
        xyz="0 0 0"
        rpy="0 0 0" />
      <geometry>
        <mesh
          filename="package://recon_bot_description/meshes/Roller_RR_1.STL" />
      </geometry>
      <material
        name="">
        <color
          rgba="0.298039215686275 0.298039215686275 0.298039215686275 1" />
      </material>
    </visual>
    
  </link>
  <joint
    name="J_Roller_RR_1"
    type="continuous">
    <origin
      xyz="0.049500000000006 0 0"
      rpy="0 -0.785398163397444 -1.57079632679489" />
    <parent
      link="Wheel_RR" />
    <child
      link="Roller_RR_1" />
    <axis
      xyz="0 0 -1" />
  </joint>
  <link
    name="Roller_RR_2">
    <inertial>
      <origin
        xyz="0.0247500321227677 -0.0144981536896033 -0.0247498858505418"
        rpy="0 0 0" />
      <mass
        value="0.0352584429300109" />
      <inertia
        ixx="1.02720859629879E-05"
        ixy="-5.25736174296122E-07"
        ixz="-8.97478853468163E-07"
        iyy="8.63106664499607E-06"
        iyz="-3.06422871372737E-06"
        izz="5.19515582335274E-06" />
    </inertial>
    <visual>
      <origin
        xyz="0 0 0"
        rpy="0 0 0" />
      <geometry>
        <mesh
          filename="package://recon_bot_description/meshes/Roller_RR_2.STL" />
      </geometry>
      <material
        name="">
        <color
          rgba="0.298039215686275 0.298039215686275 0.298039215686275 1" />
      </material>
    </visual>
    
  </link>
  <joint
    name="J_Roller_RR_2"
    type="continuous">
    <origin
      xyz="0.049500000000006 0 0"
      rpy="0 -0.785398163397444 -1.57079632679489" />
    <parent
      link="Wheel_RR" />
    <child
      link="Roller_RR_2" />
    <axis
      xyz="-0.146446609406728 -0.5 -0.853553390593274" />
  </joint>
  <link
    name="Roller_RR_3">
    <inertial>
      <origin
        xyz="1.14529011274733E-10 -1.43740908065126E-10 -1.19538481335724E-08"
        rpy="0 0 0" />
      <mass
        value="0.035258442930011" />
      <inertia
        ixx="1.04260769893648E-05"
        ixy="6.43047561220764E-18"
        ixz="3.135428663036E-11"
        iyy="1.04260769893486E-05"
        iyz="-8.71091477927151E-12"
        izz="3.24617145902362E-06" />
    </inertial>
    <visual>
      <origin
        xyz="0 0 0"
        rpy="0 0 0" />
      <geometry>
        <mesh
          filename="package://recon_bot_description/meshes/Roller_RR_3.STL" />
      </geometry>
      <material
        name="">
        <color
          rgba="0.298039215686275 0.298039215686275 0.298039215686275 1" />
      </material>
    </visual>
    
  </link>
  <joint
    name="J_Roller_RR_3"
    type="continuous">
    <origin
      xyz="0 -0.0495000000000001 0"
      rpy="0 -0.785398163397275 -3.14159265358962" />
    <parent
      link="Wheel_RR" />
    <child
      link="Roller_RR_3" />
    <axis
      xyz="0 0 -1" />
  </joint>
  <link
    name="Roller_RR_4">
    <inertial>
      <origin
        xyz="2.76238532048723E-09 2.13770798285218E-09 -1.11114659334666E-07"
        rpy="0 0 0" />
      <mass
        value="0.0352584429300108" />
      <inertia
        ixx="1.04260708684055E-05"
        ixy="-4.05622394396635E-15"
        ixz="1.24181842518424E-11"
        iyy="1.04260708725038E-05"
        iyz="3.01041157011414E-11"
        izz="3.24617146788864E-06" />
    </inertial>
    <visual>
      <origin
        xyz="0 0 0"
        rpy="0 0 0" />
      <geometry>
        <mesh
          filename="package://recon_bot_description/meshes/Roller_RR_4.STL" />
      </geometry>
      <material
        name="">
        <color
          rgba="0.298039215686275 0.298039215686275 0.298039215686275 1" />
      </material>
    </visual>
    
  </link>
  <joint
    name="J_Roller_RR_4"
    type="continuous">
    <origin
      xyz="-0.0350017856687443 -0.0350017856687639 0"
      rpy="0 -0.785398163397327 2.35619449019265" />
    <parent
      link="Wheel_RR" />
    <child
      link="Roller_RR_4" />
    <axis
      xyz="0 0 -1" />
  </joint>
  <link
    name="Roller_RR_5">
    <inertial>
      <origin
        xyz="4.96390428761373E-11 8.79210593218716E-12 8.75807198985612E-09"
        rpy="0 0 0" />
      <mass
        value="0.0352584429300111" />
      <inertia
        ixx="1.04260770225584E-05"
        ixy="-1.99762132698086E-18"
        ixz="-1.85692606996194E-11"
        iyy="1.04260770225577E-05"
        iyz="2.6723573066859E-11"
        izz="3.24617145900821E-06" />
    </inertial>
    <visual>
      <origin
        xyz="0 0 0"
        rpy="0 0 0" />
      <geometry>
        <mesh
          filename="package://recon_bot_description/meshes/Roller_RR_5.STL" />
      </geometry>
      <material
        name="">
        <color
          rgba="0.298039215686275 0.298039215686275 0.298039215686275 1" />
      </material>
    </visual>
    
  </link>
  <joint
    name="J_Roller_RR_5"
    type="continuous">
    <origin
      xyz="-0.0495000000000206 0 0"
      rpy="0 -0.78539816339745 1.57079632679524" />
    <parent
      link="Wheel_RR" />
    <child
      link="Roller_RR_5" />
    <axis
      xyz="0 0 -1" />
  </joint>
  <link
    name="Roller_RR_6">
    <inertial>
      <origin
        xyz="-5.57324551786476E-09 2.04404754233778E-09 -1.28496821960589E-07"
        rpy="0 0 0" />
      <mass
        value="0.0352584429300109" />
      <inertia
        ixx="1.04260687757173E-05"
        ixy="7.73717502284936E-15"
        ixz="-1.85253924061901E-11"
        iyy="1.0426068800802E-05"
        iyz="2.68437436203528E-11"
        izz="3.24617148814881E-06" />
    </inertial>
    <visual>
      <origin
        xyz="0 0 0"
        rpy="0 0 0" />
      <geometry>
        <mesh
          filename="package://recon_bot_description/meshes/Roller_RR_6.STL" />
      </geometry>
      <material
        name="">
        <color
          rgba="0.298039215686275 0.298039215686275 0.298039215686275 1" />
      </material>
    </visual>
    
  </link>
  <joint
    name="J_Roller_RR_6"
    type="continuous">
    <origin
      xyz="-0.0350017856687212 0.0350017856687237 0"
      rpy="0 -0.785398163397572 0.78539816339774" />
    <parent
      link="Wheel_RR" />
    <child
      link="Roller_RR_6" />
    <axis
      xyz="0 0 -1" />
  </joint>
  <link
    name="Roller_RR_7">
    <inertial>
      <origin
        xyz="1.18025478279549E-10 1.32408584097021E-10 1.20856666063762E-08"
        rpy="0 0 0" />
      <mass
        value="0.0352584429300108" />
      <inertia
        ixx="1.04260769877755E-05"
        ixy="-6.49989260921309E-18"
        ixz="-3.19602978087345E-11"
        iyy="1.0426076987761E-05"
        iyz="-6.12441084700149E-12"
        izz="3.24617145902205E-06" />
    </inertial>
    <visual>
      <origin
        xyz="0 0 0"
        rpy="0 0 0" />
      <geometry>
        <mesh
          filename="package://recon_bot_description/meshes/Roller_RR_7.STL" />
      </geometry>
      <material
        name="">
        <color
          rgba="0.298039215686275 0.298039215686275 0.298039215686275 1" />
      </material>
    </visual>
    
  </link>
  <joint
    name="J_Roller_RR_7"
    type="continuous">
    <origin
      xyz="0 0.0494999999999669 0"
      rpy="0 -0.78539816339762 0" />
    <parent
      link="Wheel_RR" />
    <child
      link="Roller_RR_7" />
    <axis
      xyz="0 0 -1" />
  </joint>
  <link
    name="Roller_RR_8">
    <inertial>
      <origin
        xyz="-1.74573559219571E-08 -8.01624572277504E-10 9.90356089913824E-08"
        rpy="0 0 0" />
      <mass
        value="0.035258442930011" />
      <inertia
        ixx="1.04260721421412E-05"
        ixy="-2.24826665582047E-14"
        ixz="5.61434170959108E-12"
        iyy="1.04260724436141E-05"
        iyz="-3.20575856409404E-11"
        izz="3.24617176333256E-06" />
    </inertial>
    <visual>
      <origin
        xyz="0 0 0"
        rpy="0 0 0" />
      <geometry>
        <mesh
          filename="package://recon_bot_description/meshes/Roller_RR_8.STL" />
      </geometry>
      <material
        name="">
        <color
          rgba="0.298039215686275 0.298039215686275 0.298039215686275 1" />
      </material>
    </visual>
    
  </link>
  <joint
    name="J_Roller_RR_8"
    type="continuous">
    <origin
      xyz="0.0350017856687396 0.0350017856687503 0"
      rpy="0 -0.785398163397566 -0.785398163397389" />
    <parent
      link="Wheel_RR" />
    <child
      link="Roller_RR_8" />
    <axis
      xyz="0 0 -1" />
  </joint>
  <link
    name="Pin_Head_F">
    <inertial>
      <origin
        xyz="5.79715675463888E-09 -3.31749339110843E-09 -0.0053966909824284"
        rpy="0 0 0" />
      <mass
        value="0.402815862801581" />
      <inertia
        ixx="0.000833196466867663"
        ixy="-1.99021997970921E-08"
        ixz="-1.89086541626032E-10"
        iyy="0.000833099897197821"
        iyz="1.01041014589601E-10"
        izz="3.49180806072697E-05" />
    </inertial>
    <visual>
      <origin
        xyz="0 0 0"
        rpy="0 0 0" />
      <geometry>
        <mesh
          filename="package://recon_bot_description/meshes/Pin_Head_F.STL" />
      </geometry>
      <material
        name="">
        <color
          rgba="0.898039215686275 0.917647058823529 0.929411764705882 1" />
      </material>
    </visual>
    <collision>
      <origin
        xyz="0 0 0"
        rpy="0 0 0" />
      <geometry>
        <mesh
          filename="package://recon_bot_description/meshes/Pin_Head_F.STL" />
      </geometry>
    </collision>
  </link>
  <joint
    name="J_Pin_Head_F"
    type="prismatic">
    <origin
      xyz="-0.1012 0.125 0.06"
      rpy="-1.5708 0 1.5708" />
    <parent
      link="Mobile_Base" />
    <child
      link="Pin_Head_F" />
    <axis
      xyz="0 0 1" />
    <limit
      lower="0"
      upper="0.2"
      effort="0"
      velocity="0" />
  </joint>
  <link
    name="Pin_Head_R">
    <inertial>
      <origin
        xyz="-6.17058776297696E-09 2.55668453075231E-09 -0.00539669098242834"
        rpy="0 0 0" />
      <mass
        value="0.402815862801581" />
      <inertia
        ixx="0.000833199918234933"
        ixy="-7.13359815521494E-09"
        ixz="2.00359336359181E-10"
        iyy="0.000833096445830546"
        iyz="-7.62833085185167E-11"
        izz="3.49180806072696E-05" />
    </inertial>
    <visual>
      <origin
        xyz="0 0 0"
        rpy="0 0 0" />
      <geometry>
        <mesh
          filename="package://recon_bot_description/meshes/Pin_Head_R.STL" />
      </geometry>
      <material
        name="">
        <color
          rgba="0.898039215686275 0.917647058823529 0.929411764705882 1" />
      </material>
    </visual>
    <collision>
      <origin
        xyz="0 0 0"
        rpy="0 0 0" />
      <geometry>
        <mesh
          filename="package://recon_bot_description/meshes/Pin_Head_R.STL" />
      </geometry>
    </collision>
  </link>
  <joint
    name="J_Pin_Head_R"
    type="prismatic">
    <origin
      xyz="0.10612 -0.125 0.06"
      rpy="-1.5708 0 -1.5708" />
    <parent
      link="Mobile_Base" />
    <child
      link="Pin_Head_R" />
    <axis
      xyz="0 0 1" />
    <limit
      lower="0"
      upper="0.2"
      effort="0"
      velocity="0" />
  </joint>
</robot>
